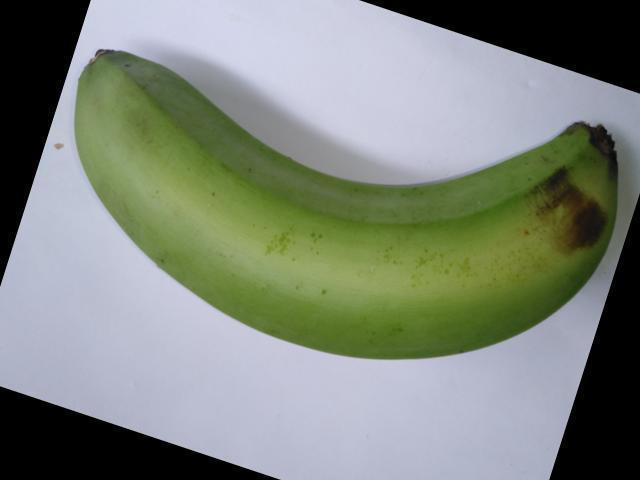freshunripe: (59, 38, 636, 366)
